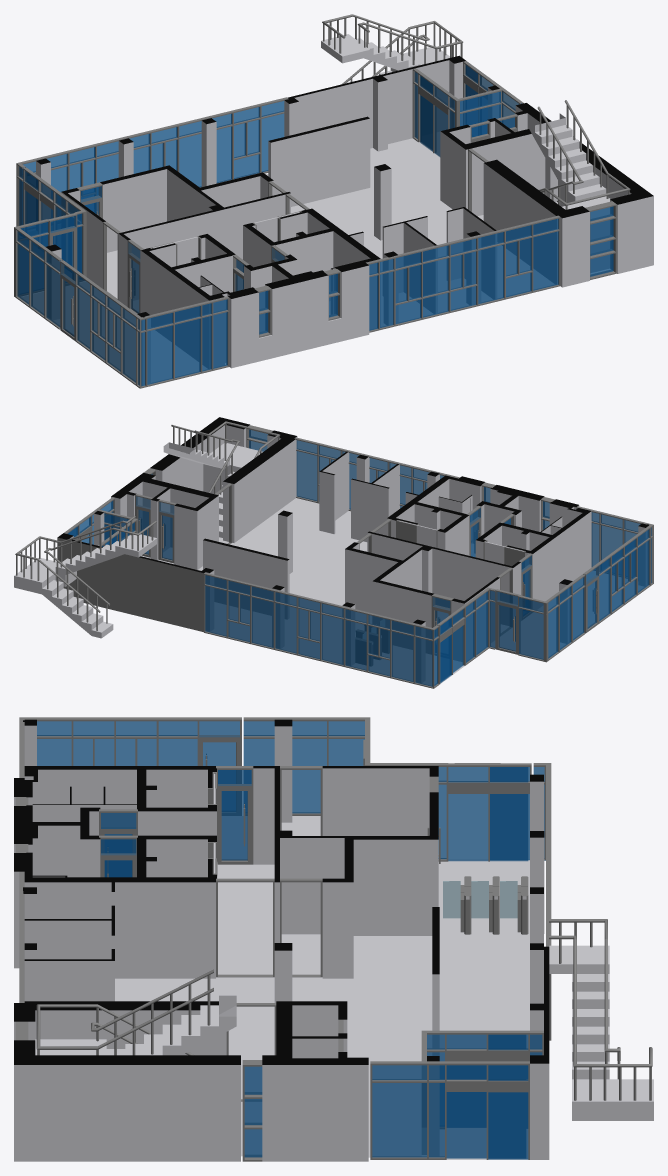
3 views of the same model, one above another, from view 1: azimuth 30°, elevation 25°; view 2: azimuth 150°, elevation 25°; view 3: azimuth 270°, elevation 25° (orthographic). The views are drawn at different scales.
Parts seen in each view (by area): view 1: 1층 내벽, 1층 유리창1, 1층 바닥, 1층 내부 기둥, 내부 계단, 1층 유리문, 1층 자동문, 외부 계단, 1층 유리창2, 장애인용 화장실 문, 1층 몰딩; view 2: 1층 내벽, 1층 유리창1, 1층 바닥, 외부 계단, 1층 유리문, 1층 내부 기둥, 내부 계단, 1층 자동문, 장애인용 화장실 문, 스마트 게이트, 1층 몰딩, 화장실 칸막이 (+1 smaller); view 3: 1층 내벽, 1층 바닥, 1층 유리창1, 1층 자동문, 외부 계단, 1층 유리문, 1층 내부 기둥, 내부 계단, 스마트 게이트, 1층 몰딩, 화장실 칸막이, 1층 유리창2.
Part boxes in pixels (<box>): 1층 내벽: <box>61,55,653,368</box>; 1층 유리창1: <box>14,83,616,388</box>; 1층 바닥: <box>22,132,557,382</box>; 1층 내부 기둥: <box>36,58,499,385</box>; 내부 계단: <box>528,100,630,272</box>; 1층 유리문: <box>48,114,517,340</box>; 1층 자동문: <box>23,61,495,245</box>; 외부 계단: <box>321,14,463,84</box>; 1층 유리창2: <box>412,68,501,141</box>; 장애인용 화장실 문: <box>150,211,301,265</box>; 1층 몰딩: <box>103,148,488,299</box>; 1층 내벽: <box>57,417,591,661</box>; 1층 유리창1: <box>89,425,653,688</box>; 1층 바닥: <box>141,498,643,685</box>; 외부 계단: <box>14,515,156,638</box>; 1층 유리문: <box>135,494,599,655</box>; 1층 내부 기둥: <box>62,454,648,682</box>; 내부 계단: <box>163,421,280,537</box>; 1층 자동문: <box>64,514,465,684</box>; 장애인용 화장실 문: <box>396,520,525,583</box>; 스마트 게이트: <box>355,619,389,665</box>; 1층 몰딩: <box>214,483,512,635</box>; 화장실 칸막이: <box>438,495,562,540</box>; 1층 내벽: <box>14,766,549,1161</box>; 1층 바닥: <box>115,816,529,1159</box>; 1층 유리창1: <box>15,717,551,1161</box>; 1층 자동문: <box>445,763,531,1159</box>; 외부 계단: <box>549,919,653,1120</box>; 1층 유리문: <box>99,717,440,1051</box>; 1층 내부 기둥: <box>23,719,544,1155</box>; 내부 계단: <box>35,969,236,1055</box>; 스마트 게이트: <box>443,876,528,934</box>; 1층 몰딩: <box>216,766,322,1101</box>; 화장실 칸막이: <box>32,786,136,877</box>; 1층 유리창2: <box>421,1030,543,1154</box>.
Bounding box in the file's own units: 23.77 × 5.06 × 18.05.
